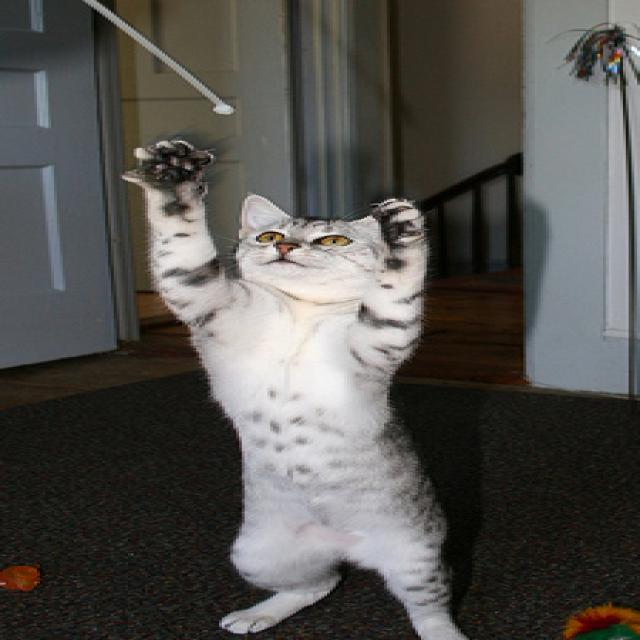Egyptian Mau: (120, 135, 490, 640)
